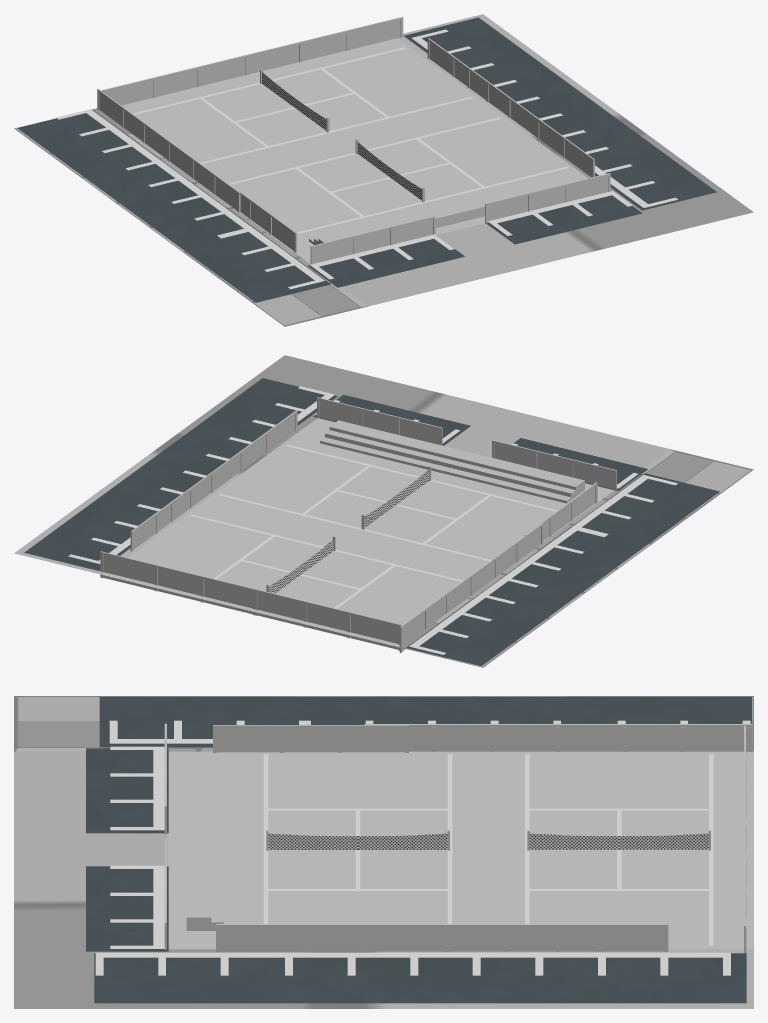
The model's file is tile_poi_tennis_court_6x6_c.fbx.
3 renders of one model, top to bottom at view 1: azimuth 30°, elevation 25°; view 2: azimuth 150°, elevation 25°; view 3: azimuth 270°, elevation 25°, orthographic. The views are drawn at different scales.
Parts seen in each view (by area): view 1: tile_poi_tennis_court_6x6_c; view 2: tile_poi_tennis_court_6x6_c; view 3: tile_poi_tennis_court_6x6_c.
Part boxes in pixels (left/top/right/bottom): tile_poi_tennis_court_6x6_c: left=14, top=14, right=753, bottom=326; tile_poi_tennis_court_6x6_c: left=14, top=355, right=753, bottom=667; tile_poi_tennis_court_6x6_c: left=14, top=696, right=753, bottom=1008.
Size of the model in its own units: 9600 by 502 by 9600.
